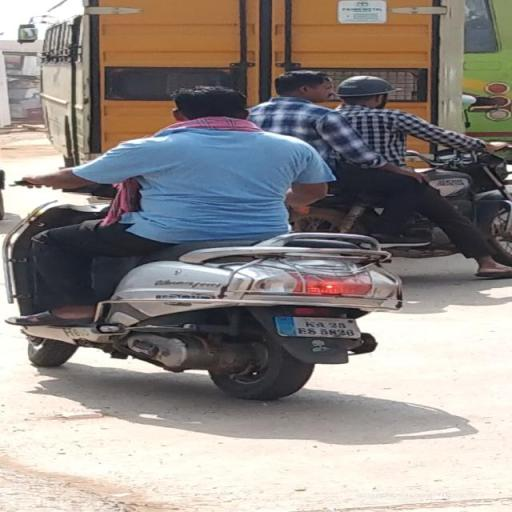bike: (2, 87, 413, 397)
numberplate: (277, 316, 359, 342)
withouthelmet: (174, 87, 248, 119)
